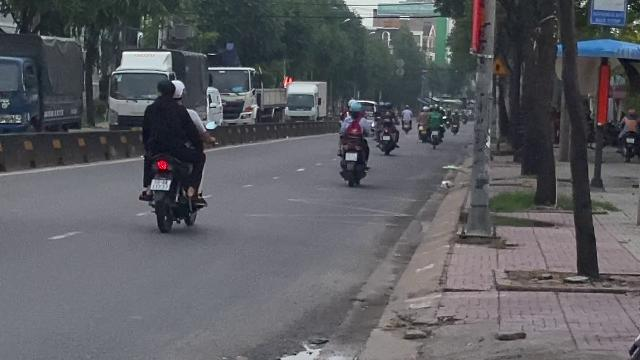helmet: (169, 80, 185, 100)
licenseplate: (151, 178, 171, 189)
motorcyclist: (136, 78, 210, 232)
nohelmet: (154, 78, 174, 98)
